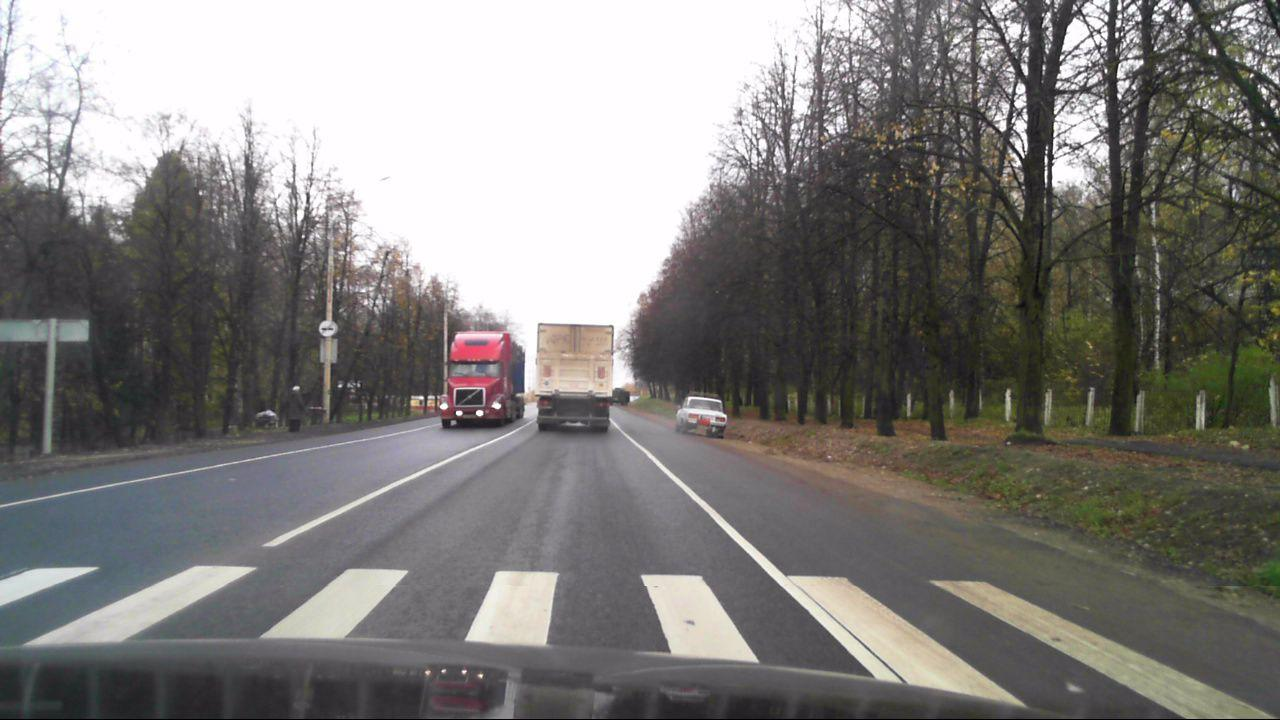3_31: (319, 320, 336, 337)
